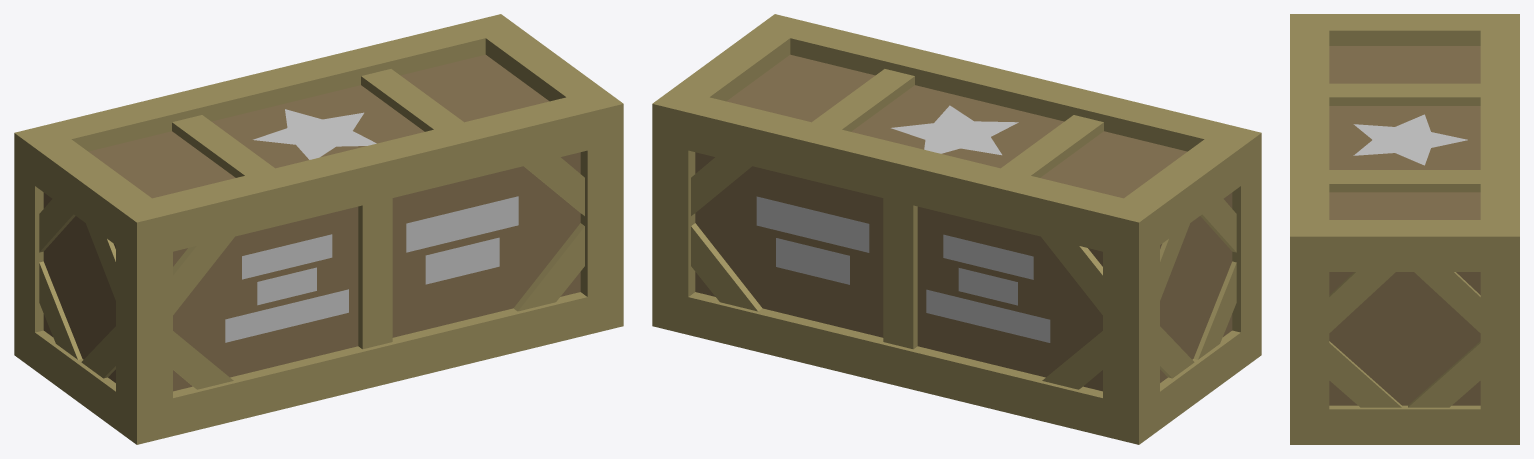
3 views of the same model, side by side, from view 1: azimuth 30°, elevation 25°; view 2: azimuth 150°, elevation 25°; view 3: azimuth 270°, elevation 25° (orthographic). The views are drawn at different scales.
Visible parts, largest first — view 1: box_005; view 2: box_005; view 3: box_005.
Part boxes in pixels (bbox=[...]): box_005: bbox=[14, 14, 623, 444]; box_005: bbox=[652, 14, 1261, 444]; box_005: bbox=[1290, 14, 1519, 444].
Bounding box in the file's own units: 157 × 68.43 × 68.43.
